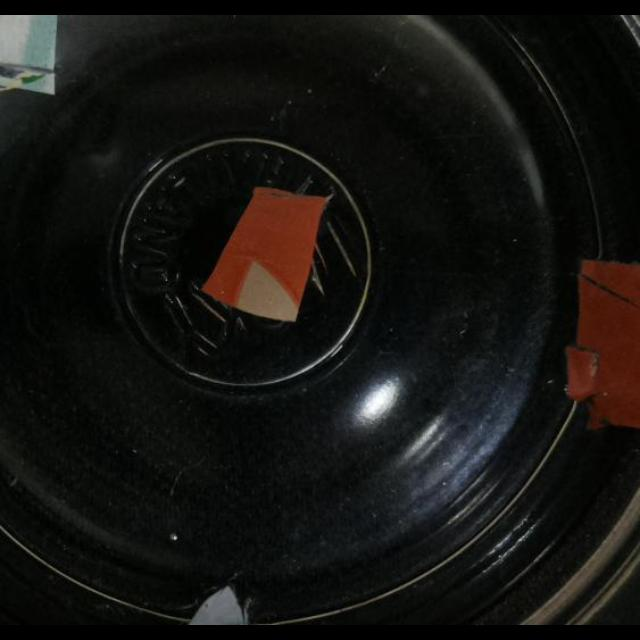Fragment: (198, 184, 329, 324), (572, 258, 640, 434), (0, 15, 58, 95), (188, 584, 250, 626)
